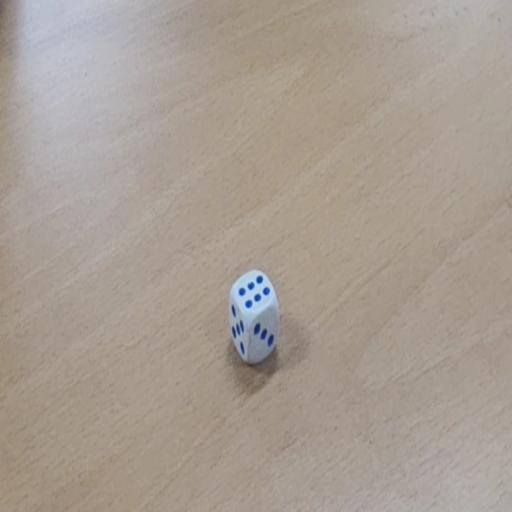dice_6: (228, 268, 280, 364)
